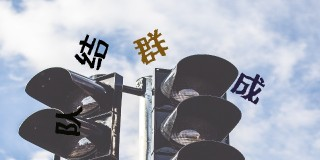成: (230, 70, 265, 106)
结: (74, 32, 110, 71)
群: (133, 27, 168, 65)
队: (53, 108, 88, 136)
